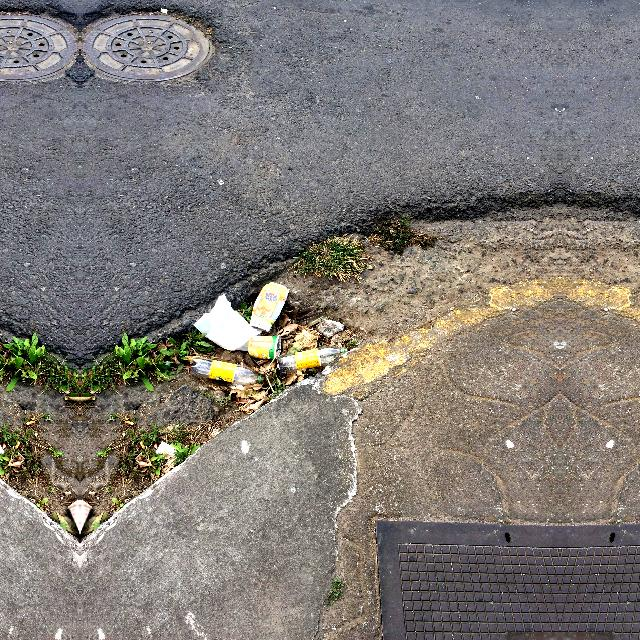Paper: (192, 292, 264, 354), (245, 333, 282, 361)
Plastic: (188, 354, 270, 391), (245, 280, 292, 334), (276, 344, 350, 376)
